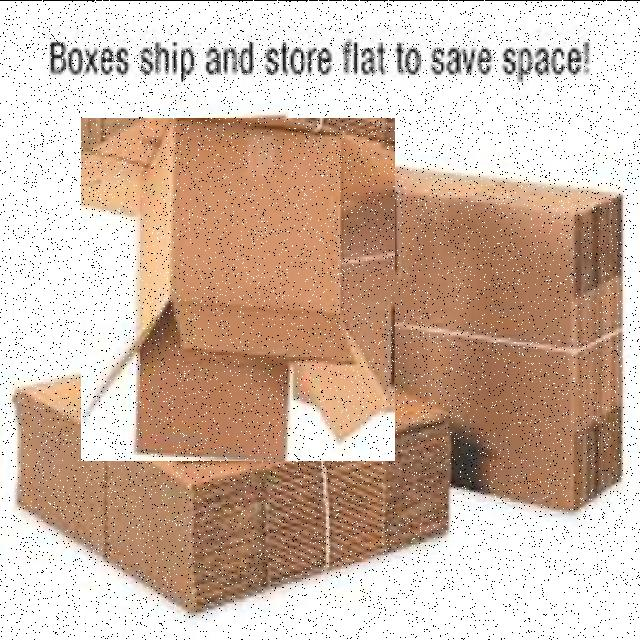defect: (82, 117, 396, 460)
